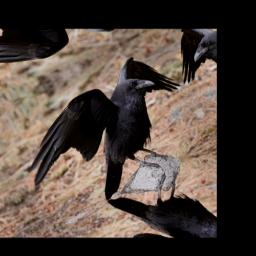Crow: (0, 42, 215, 226)
